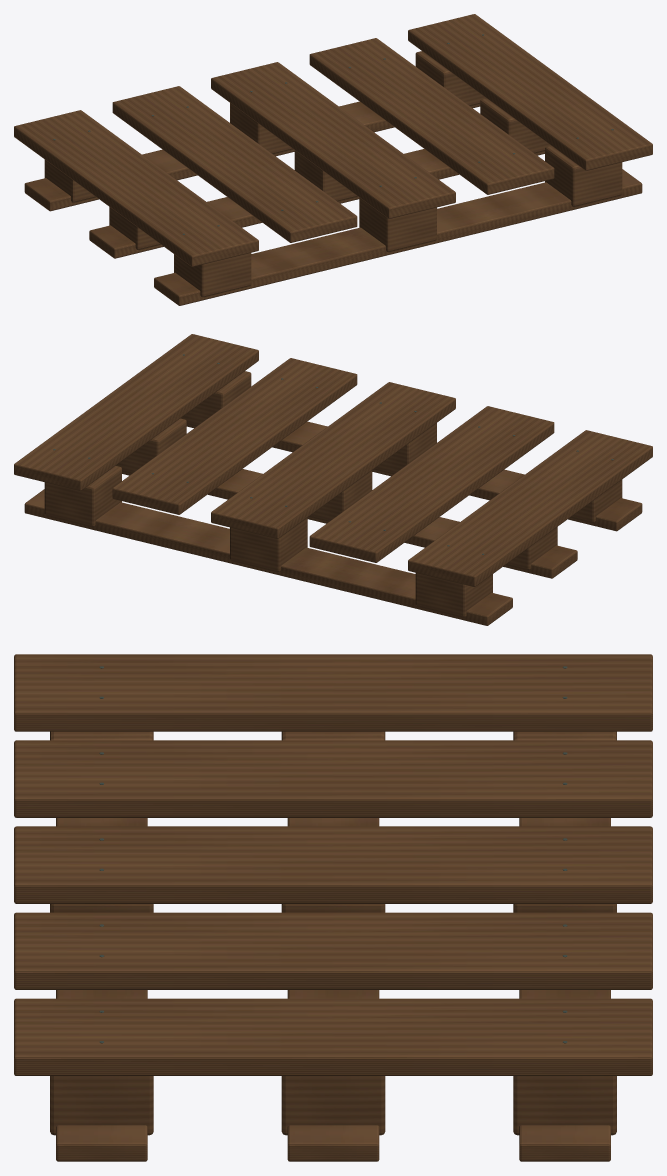
The model's file is wood-pallet.glb.
3 views of the same model, one above another, from view 1: azimuth 30°, elevation 25°; view 2: azimuth 150°, elevation 25°; view 3: azimuth 270°, elevation 25° (orthographic). The views are drawn at different scales.
Visible parts, largest first — view 1: Pallet deck board.001, Pallet deck board.003, Pallet deck board, Pallet deck board.004, Pallet deck board.002, Bottom bearer, Pallet bearing block.006, Bottom bearer.002, Bottom bearer.001, Pallet bearing block.003, Pallet bearing block, Pallet bearing block.008 (+5 smaller); view 2: Pallet deck board.001, Pallet deck board.003, Pallet deck board, Pallet deck board.004, Pallet deck board.002, Bottom bearer.002, Pallet bearing block.008, Bottom bearer, Bottom bearer.001, Pallet bearing block.005, Pallet bearing block.002, Pallet bearing block.006 (+5 smaller); view 3: Pallet deck board, Pallet deck board.001, Pallet deck board.002, Pallet deck board.003, Pallet deck board.004, Pallet bearing block.007, Pallet bearing block.006, Pallet bearing block.008, Bottom bearer.001, Bottom bearer, Bottom bearer.002, Pallet bearing block.001 (+5 smaller).
Part boxes in pixels (bbox=[...]): Pallet deck board.001: bbox=[112, 86, 357, 242]; Pallet deck board.003: bbox=[309, 38, 554, 194]; Pallet deck board: bbox=[14, 110, 258, 266]; Pallet deck board.004: bbox=[408, 14, 652, 170]; Pallet deck board.002: bbox=[211, 62, 455, 218]; Bottom bearer: bbox=[154, 169, 642, 305]; Pallet bearing block.006: bbox=[545, 145, 622, 206]; Bottom bearer.002: bbox=[24, 101, 480, 211]; Bottom bearer.001: bbox=[89, 149, 544, 258]; Pallet bearing block.003: bbox=[359, 197, 436, 252]; Pallet bearing block: bbox=[174, 253, 251, 297]; Pallet bearing block.008: bbox=[415, 51, 486, 105]; Pallet deck board.001: bbox=[309, 406, 554, 562]; Pallet deck board.003: bbox=[112, 358, 357, 514]; Pallet deck board: bbox=[408, 430, 652, 586]; Pallet deck board.004: bbox=[14, 334, 258, 490]; Pallet deck board.002: bbox=[211, 382, 455, 538]; Bottom bearer.002: bbox=[24, 489, 512, 625]; Pallet bearing block.008: bbox=[44, 465, 121, 526]; Bottom bearer: bbox=[186, 421, 642, 531]; Bottom bearer.001: bbox=[122, 469, 577, 578]; Pallet bearing block.005: bbox=[230, 517, 307, 572]; Pallet bearing block.002: bbox=[415, 573, 492, 617]; Pallet bearing block.006: bbox=[180, 371, 251, 425]; Pallet deck board: bbox=[14, 654, 652, 731]; Pallet deck board.001: bbox=[14, 740, 652, 817]; Pallet deck board.002: bbox=[14, 826, 652, 903]; Pallet deck board.003: bbox=[14, 912, 652, 989]; Pallet deck board.004: bbox=[14, 998, 652, 1075]; Pallet bearing block.007: bbox=[281, 1076, 385, 1135]; Pallet bearing block.006: bbox=[50, 1076, 153, 1135]; Pallet bearing block.008: bbox=[513, 1076, 616, 1135]; Bottom bearer.001: bbox=[287, 818, 379, 1161]; Bottom bearer: bbox=[56, 818, 147, 1161]; Bottom bearer.002: bbox=[519, 818, 610, 1161]; Pallet bearing block.001: bbox=[281, 731, 385, 740].
Size of the model in its own units: 1.2 by 0.146 by 0.8.
2 materials, 1 textured.
